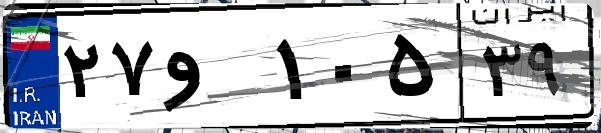0: (330, 28, 385, 110)
1: (270, 28, 330, 110)
2: (57, 26, 110, 100)
3: (475, 38, 525, 113)
5: (385, 28, 445, 110)
7: (110, 28, 158, 98)
9: (525, 38, 570, 115)
و: (158, 20, 270, 120)
